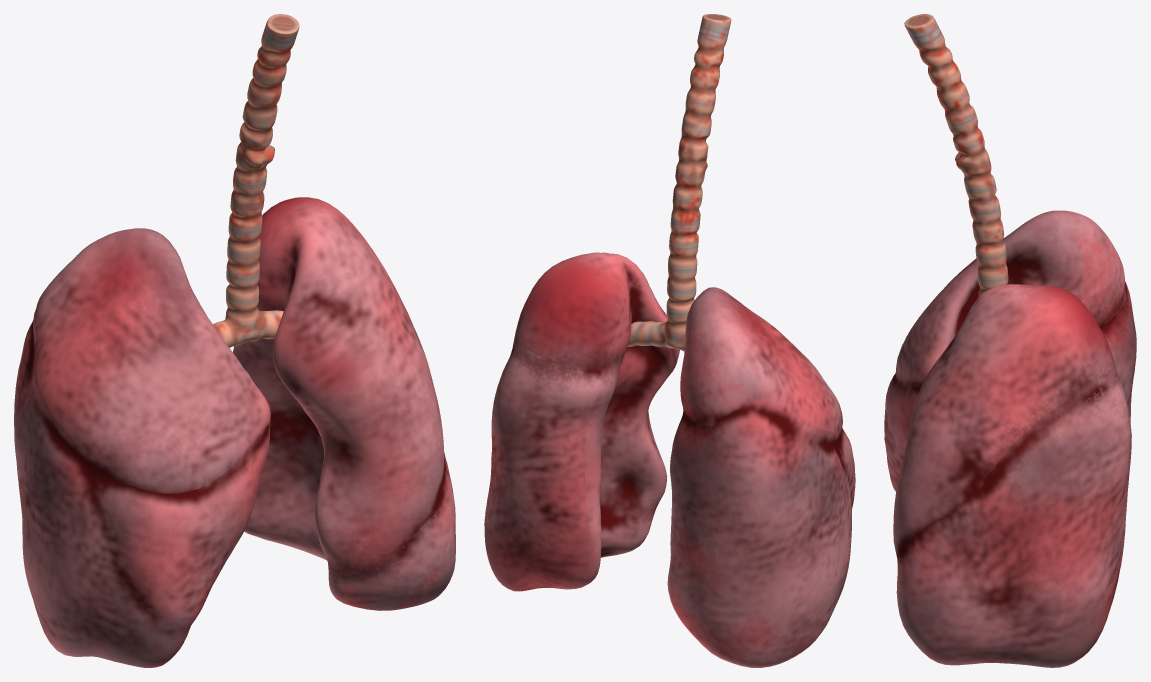
The model's file is lungs.glb.
3 views of the same model, side by side, from view 1: azimuth 30°, elevation 25°; view 2: azimuth 150°, elevation 25°; view 3: azimuth 270°, elevation 25° (orthographic). The views are drawn at different scales.
Visible parts, largest first — view 1: thairoid01:low_part02_Group6344:Group24638_thairoid01:lungh_ (×2), thairoid01:low_part01_Group6344:Group18522_thairoid01:lungh_; view 2: thairoid01:low_part02_Group6344:Group24638_thairoid01:lungh_ (×2), thairoid01:low_part01_Group6344:Group18522_thairoid01:lungh_; view 3: thairoid01:low_part02_Group6344:Group24638_thairoid01:lungh_ (×2), thairoid01:low_part01_Group6344:Group18522_thairoid01:lungh_.
Part boxes in pixels (<box>): thairoid01:low_part02_Group6344:Group24638_thairoid01:lungh_ (×2): <box>14,197,455,667</box>; thairoid01:low_part01_Group6344:Group18522_thairoid01:lungh_: <box>213,14,299,347</box>; thairoid01:low_part02_Group6344:Group24638_thairoid01:lungh_ (×2): <box>484,252,855,667</box>; thairoid01:low_part01_Group6344:Group18522_thairoid01:lungh_: <box>627,14,731,351</box>; thairoid01:low_part02_Group6344:Group24638_thairoid01:lungh_ (×2): <box>884,210,1136,667</box>; thairoid01:low_part01_Group6344:Group18522_thairoid01:lungh_: <box>904,14,1008,296</box>.
Size of the model in its own units: 0.2233 by 0.3687 by 0.1423.
Materials: 2 (2 with a texture image).
